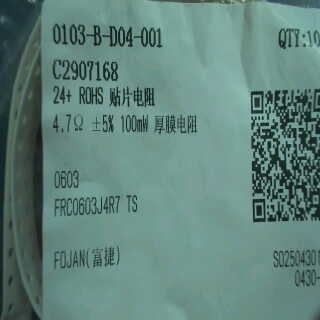4.7R: (52, 110, 84, 141)
